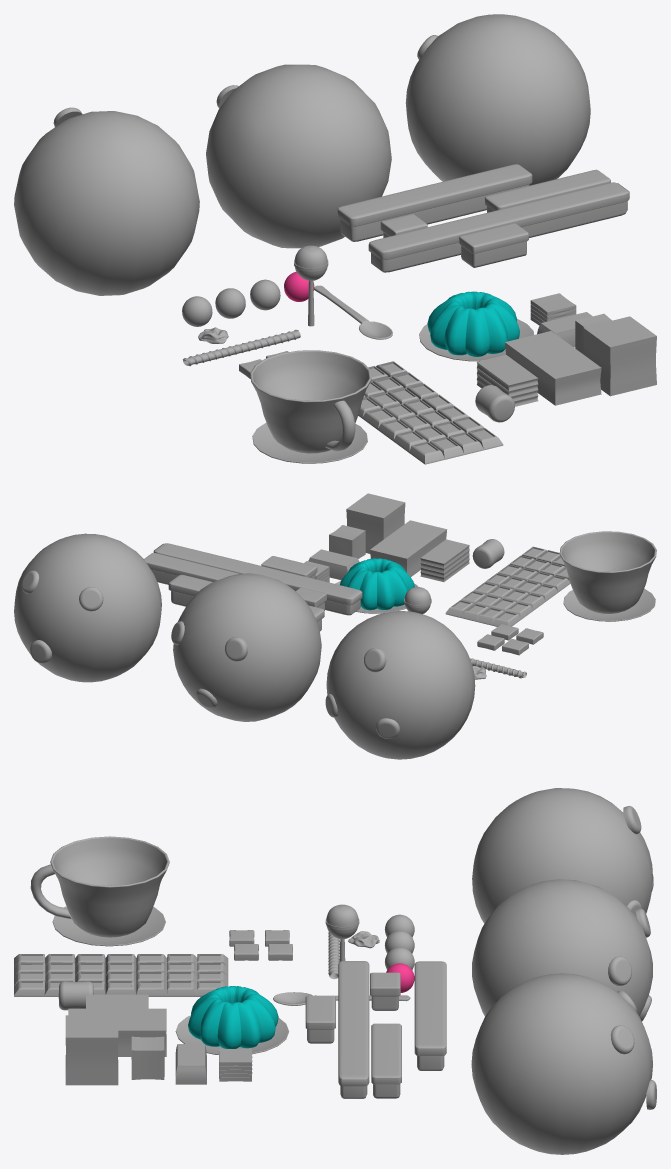
File: SPACE FOOD EXPLORER.fbx
The picture shows the model from 3 angles, top to bottom: view 1: azimuth 30°, elevation 25°; view 2: azimuth 150°, elevation 25°; view 3: azimuth 270°, elevation 25°; orthographic projection. The views are drawn at different scales.
Parts seen in each view (by area): view 1: polySurface6, polySurface2, pSphere6, pTorus2, pCube30, pCube5, pCube32, pTorus3, pCube6, pCube8, pCube29, pCube31 (+13 smaller); view 2: polySurface2, polySurface6, pSphere6, pTorus2, pCube5, pCube30, pTorus3, pCube8, pCube6, pCube31, pCylinder7, pCube32 (+13 smaller); view 3: pSphere6, polySurface2, polySurface6, pTorus2, pCube5, pTorus3, pCube30, pCube6, pCube32, pCube31, pCube8, pCylinder7 (+11 smaller).
Boxes of the visible parts, <box> form: polySurface6: <box>14,111,199,295</box>; polySurface2: <box>206,64,391,248</box>; pSphere6: <box>405,14,590,185</box>; pTorus2: <box>250,350,371,453</box>; pCube30: <box>368,182,629,272</box>; pCube5: <box>358,361,503,464</box>; pCube32: <box>337,164,532,241</box>; pTorus3: <box>427,291,519,356</box>; pCube6: <box>583,316,656,396</box>; pCube8: <box>505,331,601,405</box>; pCube29: <box>459,223,528,267</box>; pCube31: <box>484,169,610,212</box>; polySurface2: <box>173,573,321,721</box>; polySurface6: <box>326,611,475,759</box>; pSphere6: <box>14,533,161,682</box>; pTorus2: <box>559,531,656,613</box>; pCube5: <box>445,546,570,626</box>; pCube30: <box>153,543,362,615</box>; pTorus3: <box>340,558,414,610</box>; pCube8: <box>370,520,447,576</box>; pCube6: <box>346,493,405,553</box>; pCube31: <box>144,553,239,584</box>; pCylinder7: <box>563,588,655,621</box>; pCube32: <box>168,574,324,631</box>; pSphere6: <box>471,973,652,1154</box>; polySurface2: <box>472,879,652,1016</box>; polySurface6: <box>472,788,652,923</box>; pTorus2: <box>30,836,169,937</box>; pCube5: <box>14,954,228,996</box>; pTorus3: <box>188,986,278,1048</box>; pCube30: <box>338,961,369,1098</box>; pCube6: <box>65,1015,118,1085</box>; pCube32: <box>414,961,446,1070</box>; pCube31: <box>371,1023,401,1098</box>; pCube8: <box>68,1008,166,1056</box>; pCylinder7: <box>52,906,165,946</box>.
Bounding box in the file's own units: 41.63 × 12.21 × 42.98.
